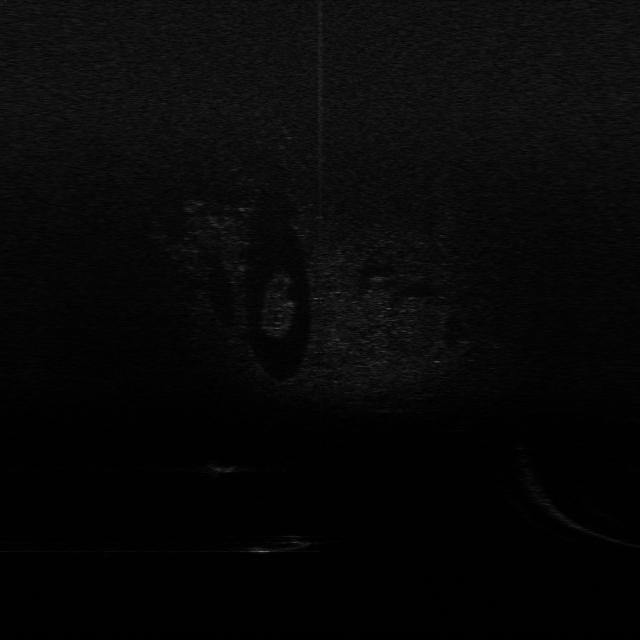square cage: (204, 454, 242, 476)
tyre: (246, 532, 316, 557)
